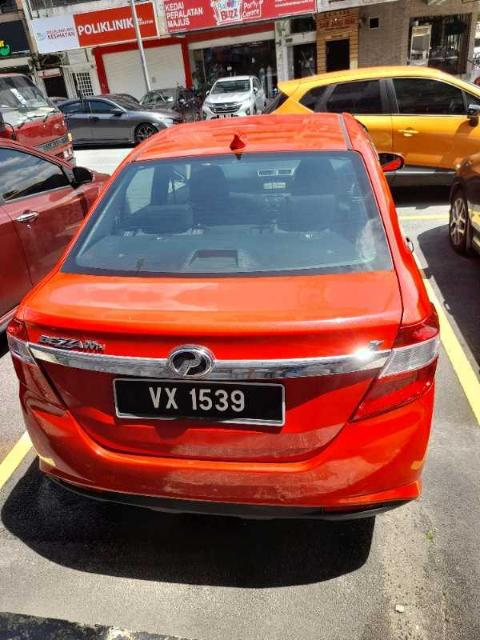License_Plate: (112, 378, 286, 429)
car: (6, 111, 442, 523)
